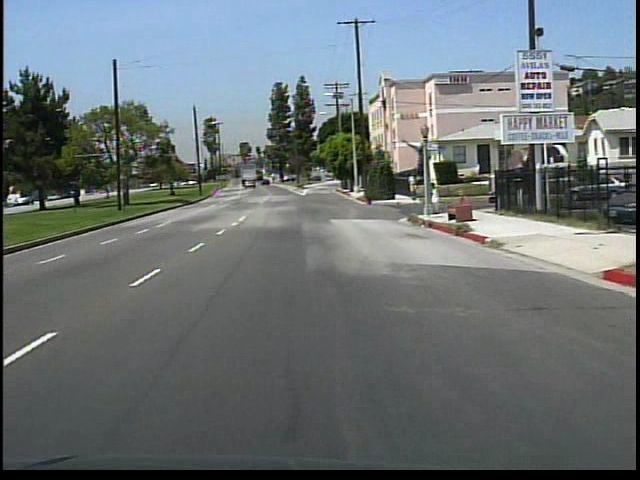person: (425, 179, 439, 217), (404, 171, 417, 199)
